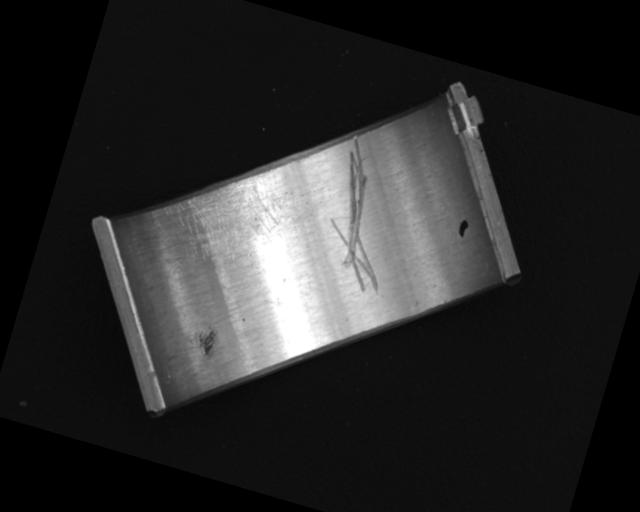blot: (455, 216, 472, 239)
bruise: (193, 324, 220, 358)
nick: (312, 129, 420, 296)
scratch: (144, 152, 298, 281)
